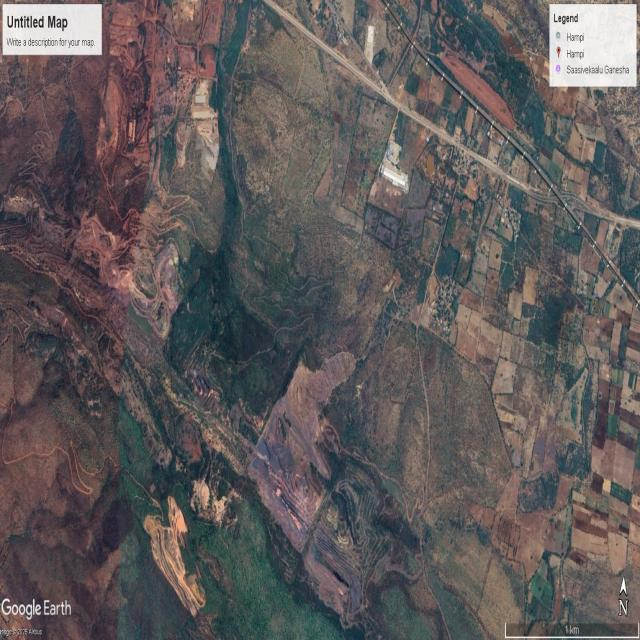artifacts: (435, 114, 515, 246)
ruins: (247, 348, 346, 540), (352, 14, 429, 241), (485, 298, 575, 481), (468, 481, 578, 628), (578, 320, 640, 548), (105, 0, 178, 171), (93, 215, 187, 334), (4, 408, 110, 492), (144, 492, 206, 614), (4, 73, 61, 171), (74, 210, 133, 287), (188, 78, 220, 172), (108, 1, 149, 60), (192, 472, 234, 524), (195, 2, 224, 70), (172, 0, 204, 43), (167, 494, 190, 548)
vegetation: (195, 505, 341, 638), (410, 334, 510, 518), (533, 80, 640, 242), (237, 29, 318, 223), (420, 4, 540, 132), (295, 202, 365, 299)
